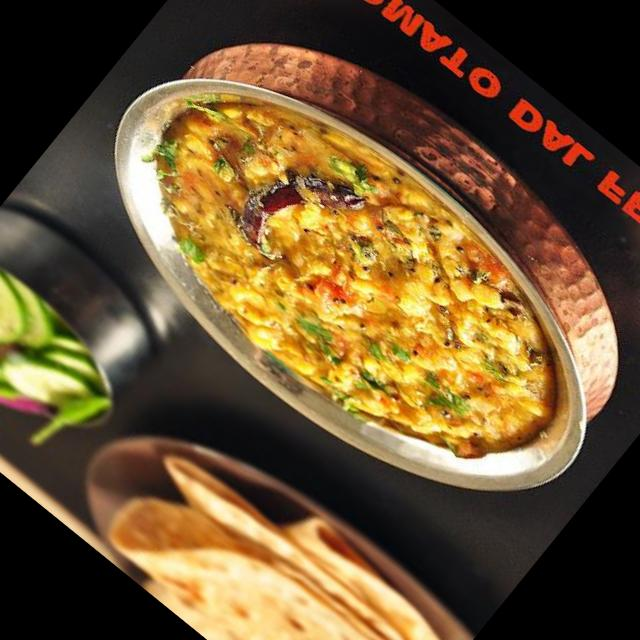dal: (70, 22, 615, 534)
roti: (68, 386, 479, 640)
